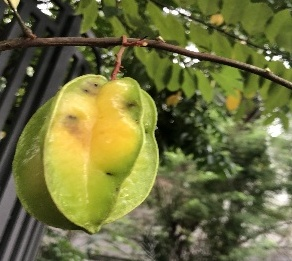Khe: (11, 71, 161, 236)
